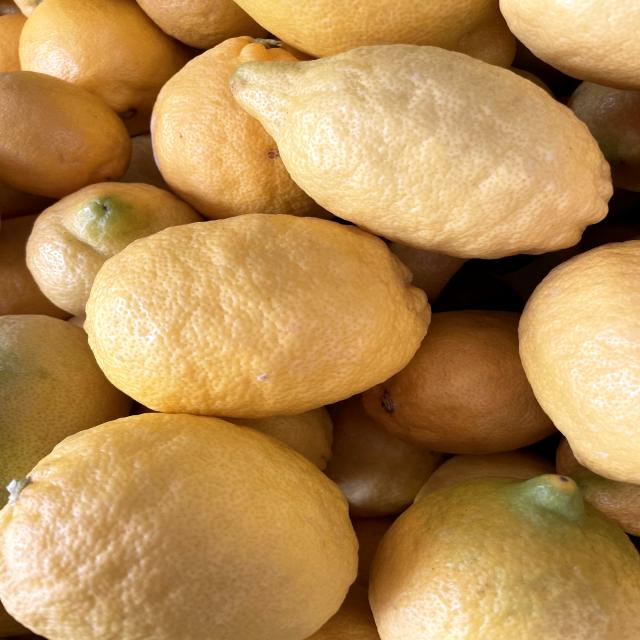lemon: (217, 35, 631, 261), (0, 394, 375, 640), (80, 197, 437, 419)
